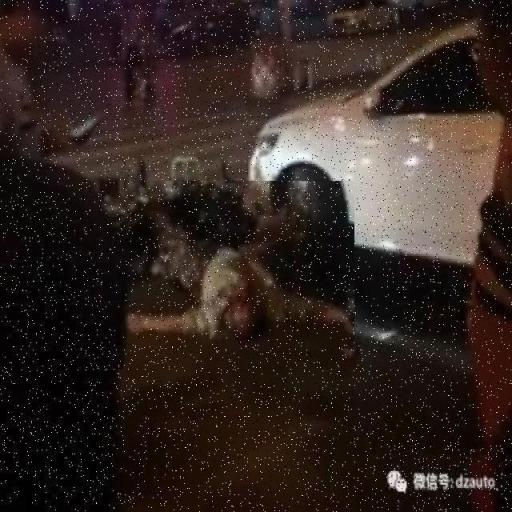Fall: (106, 181, 355, 370)
